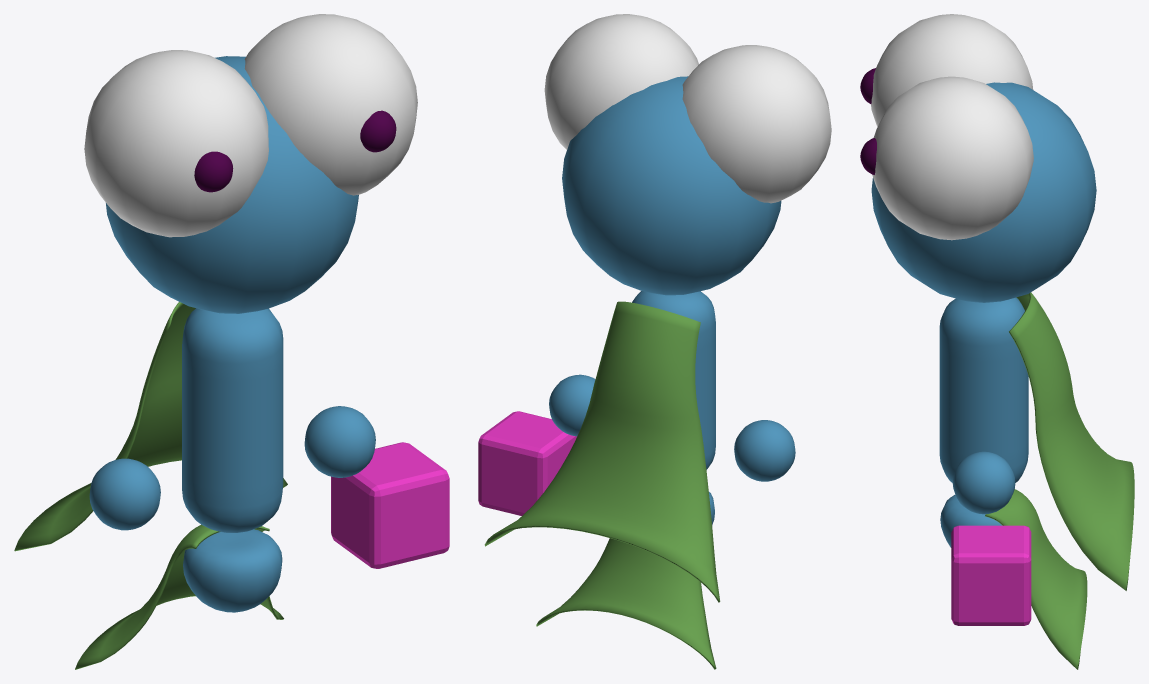
Rendered from Groggy_Blocked2.fbx.
The picture shows the model from 3 angles, left to right: view 1: azimuth 30°, elevation 25°; view 2: azimuth 150°, elevation 25°; view 3: azimuth 270°, elevation 25°; orthographic projection. The views are drawn at different scales.
Parts seen in each view (by area): view 1: Eye.L, Head, Body, Cube, Cape_body, Waist, Hand.L, Hand.R, Cape_waist, Eye.L.001; view 2: Cape_body, Head, Eye.L, Cape_waist, Cube, Body, Hand.L, Hand.R; view 3: Eye.L, Head, Cape_body, Body, Cube, Cape_waist, Hand.R, Waist, Eye.L.001.
Boxes of the visible parts, bbox=[...] form: Eye.L: bbox=[84, 14, 417, 237]; Head: bbox=[106, 56, 358, 313]; Body: bbox=[182, 308, 283, 532]; Cube: bbox=[331, 442, 449, 568]; Cape_body: bbox=[14, 302, 287, 551]; Waist: bbox=[183, 529, 282, 612]; Hand.L: bbox=[89, 458, 160, 530]; Hand.R: bbox=[304, 406, 375, 477]; Cape_waist: bbox=[75, 524, 283, 669]; Eye.L.001: bbox=[194, 110, 396, 192]; Cape_body: bbox=[484, 301, 720, 602]; Head: bbox=[562, 76, 781, 295]; Eye.L: bbox=[544, 14, 831, 203]; Cape_waist: bbox=[536, 538, 716, 669]; Cube: bbox=[478, 411, 576, 515]; Body: bbox=[632, 291, 715, 469]; Hand.L: bbox=[734, 420, 795, 481]; Hand.R: bbox=[549, 374, 595, 436]; Eye.L: bbox=[871, 14, 1033, 240]; Head: bbox=[871, 82, 1096, 302]; Cape_body: bbox=[1009, 292, 1134, 590]; Body: bbox=[939, 297, 1028, 482]; Cube: bbox=[951, 525, 1031, 625]; Cape_waist: bbox=[985, 489, 1087, 669]; Hand.R: bbox=[952, 451, 1015, 514]; Waist: bbox=[940, 494, 1001, 547]; Eye.L.001: bbox=[860, 68, 876, 174].
Size of the model in its own units: 128 by 97.9 by 226.
